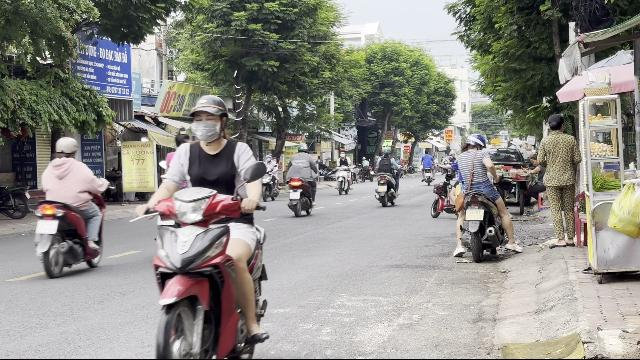helmet: (187, 94, 230, 140), (54, 136, 78, 158), (464, 134, 484, 150)
licenseplate: (36, 220, 58, 234), (466, 210, 484, 220)
motorcyclist: (133, 93, 275, 357), (32, 136, 108, 276), (447, 130, 515, 262)
